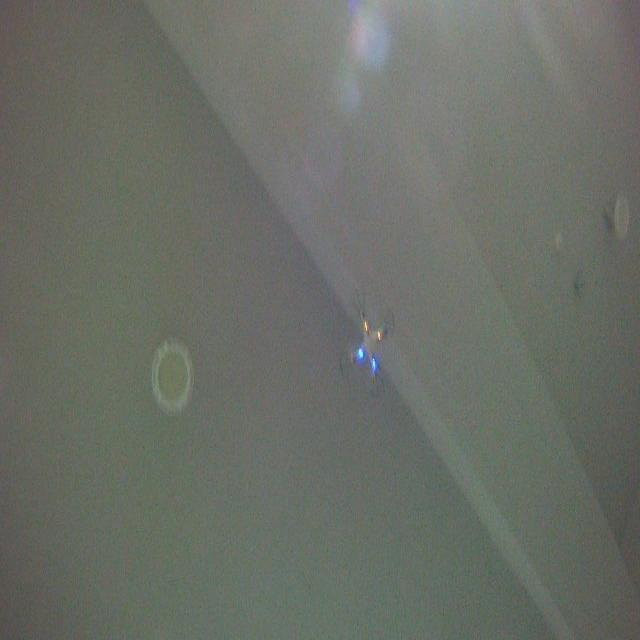drone: (337, 287, 398, 399)
